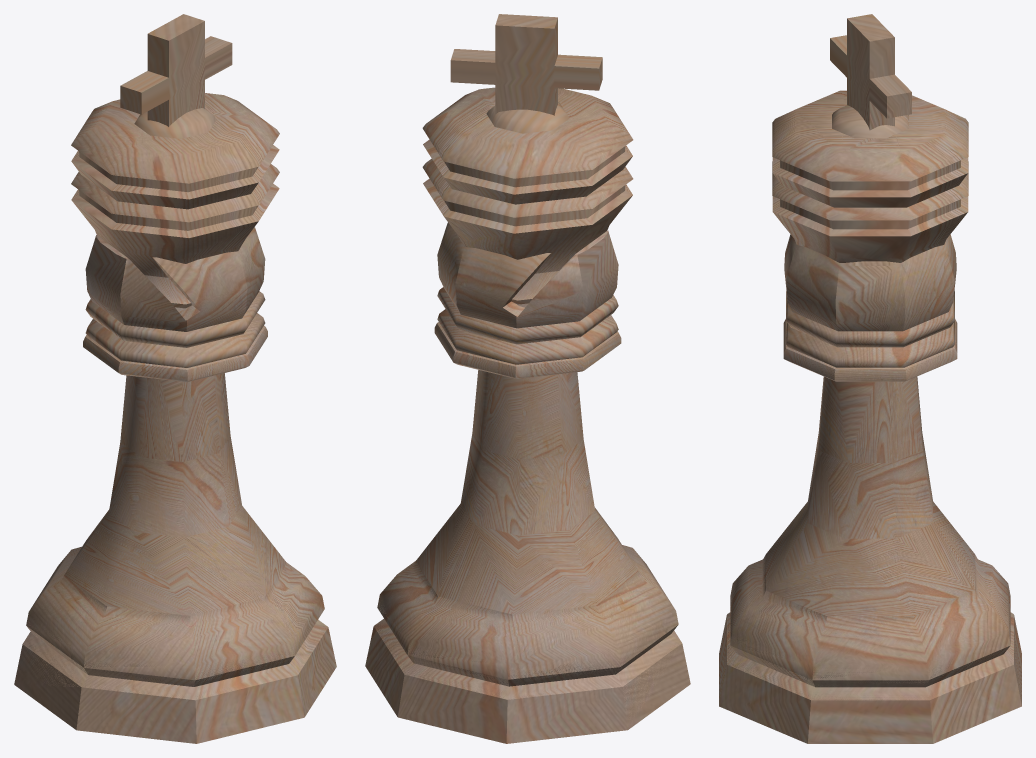
The model's file is wooden-chess-set-90151f.glb.
The picture shows the model from 3 angles, left to right: view 1: azimuth 30°, elevation 25°; view 2: azimuth 150°, elevation 25°; view 3: azimuth 270°, elevation 25°; orthographic projection.
Parts seen in each view (by area): view 1: PropMesh; view 2: PropMesh; view 3: PropMesh.
Boxes of the visible parts, x1,y1,x2,y2 form: PropMesh: (14,14,336,743); PropMesh: (365,14,690,743); PropMesh: (719,14,1021,743).
Bounding box in the file's own units: 0.9252 × 2.2 × 0.9252.
3 materials, 3 textured.
